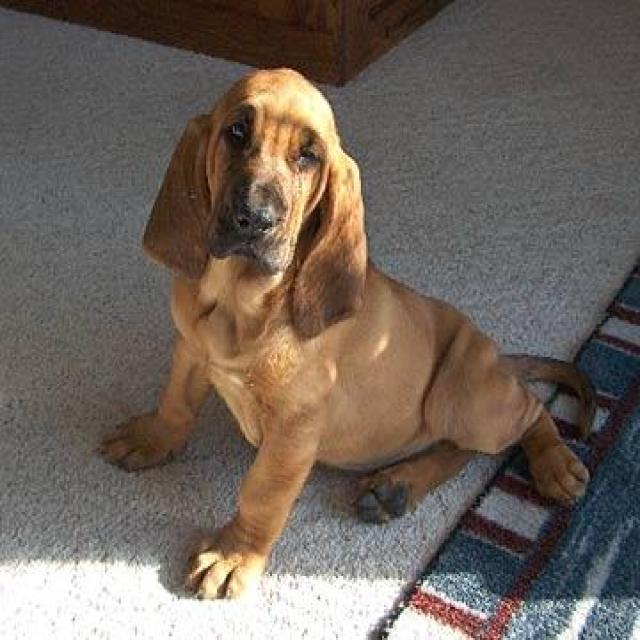bloodhound: (95, 66, 598, 599)
